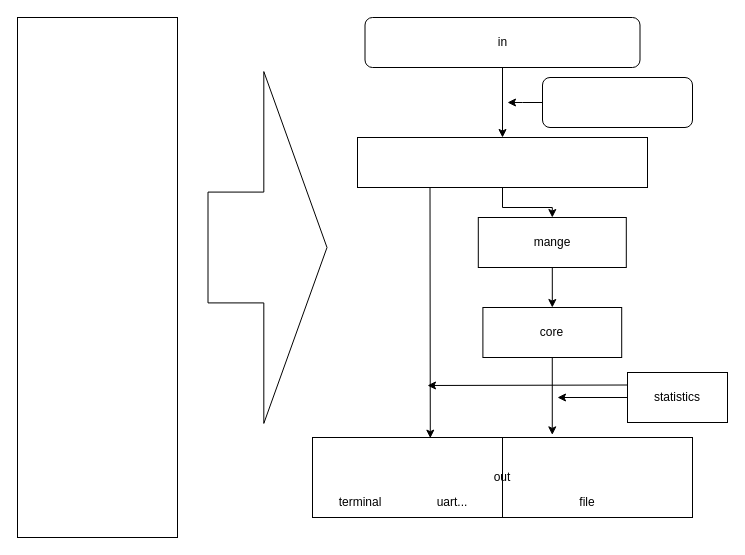
The diagram is 745 pixels wide and 555 high, and some of its shapes have lost their labels. Here are the shapes that lost their labels. From the top down, the centre of each, then its label:
[617,102]: filt
[502,162]: fmt
[97,277]: cfg
